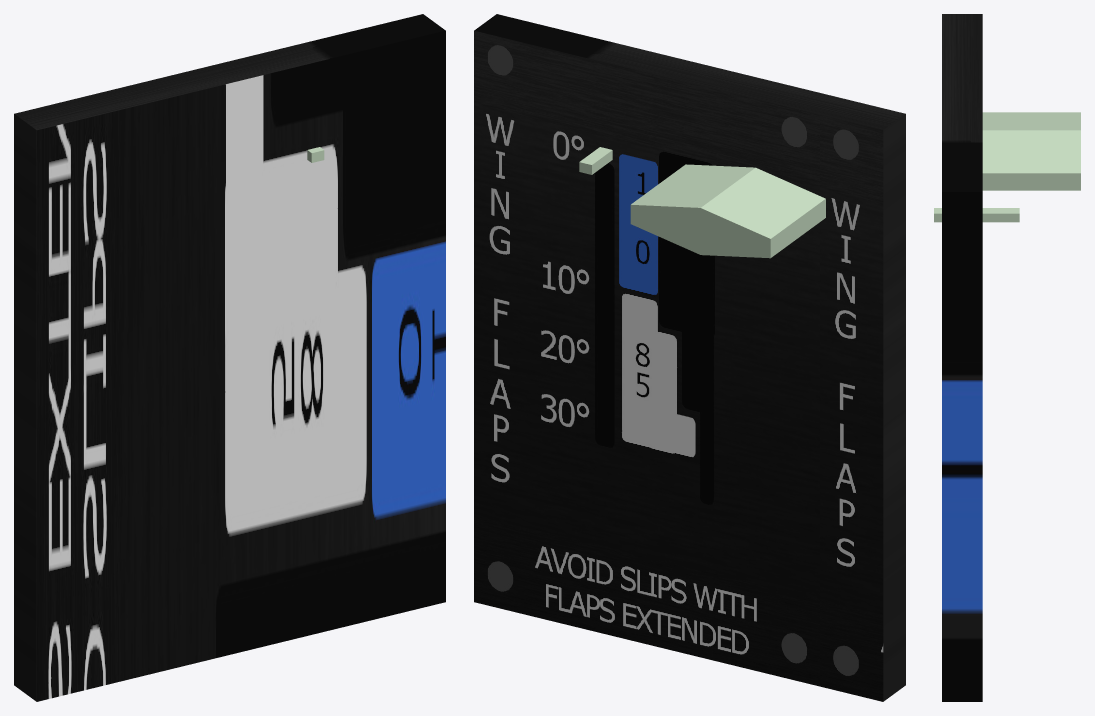
File: FlapsToggle.fbx
The picture shows the model from 3 angles, left to right: view 1: azimuth 30°, elevation 25°; view 2: azimuth 150°, elevation 25°; view 3: azimuth 270°, elevation 25°; orthographic projection. The views are drawn at different scales.
Parts seen in each view (by area): view 1: Cube.001; view 2: Cube.001, Leaver; view 3: Cube.001, Leaver.
Boxes of the visible parts, x1,y1,x2,y2 form: Cube.001: (14, 14, 445, 701); Cube.001: (474, 14, 905, 701); Leaver: (579, 147, 825, 258); Cube.001: (942, 14, 982, 701); Leaver: (934, 112, 1080, 222).
Size of the model in its own units: 14.71 by 19.64 by 5.12.
